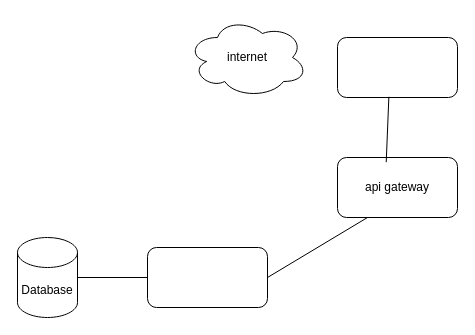
The diagram is 475 pixels wide and 335 high, and some of its shapes have lost their labels. Here are the shapes that lost their labels. From the top down, the centre of each, then its label:
(x=397, y=67): frontend
(x=207, y=277): Account Service
